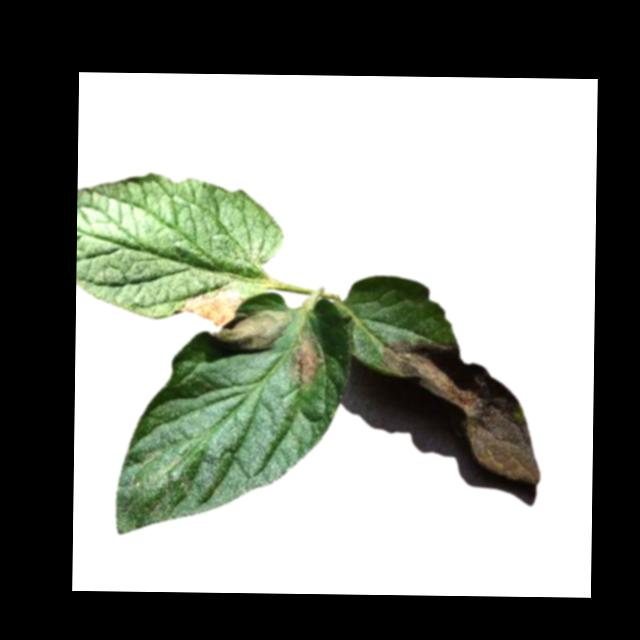Late_blight: (377, 339, 543, 483), (209, 309, 293, 356), (181, 287, 248, 328), (287, 327, 325, 385)
